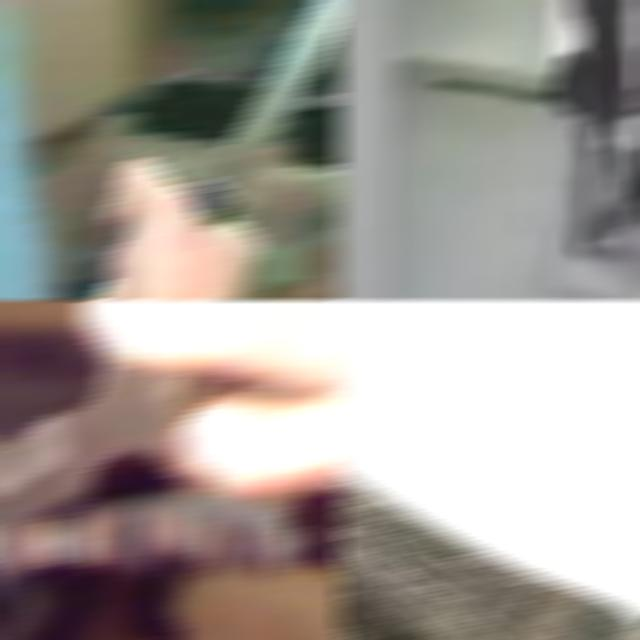Knife_Handle: (0, 300, 344, 640), (78, 0, 344, 300), (624, 78, 640, 102), (624, 80, 640, 104)
